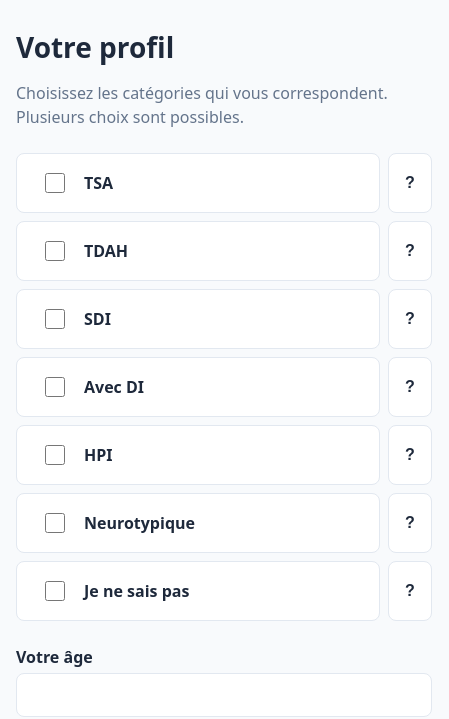
it: E02Profile › désactive Continuer tant qu'aucune catégorie ni âge valide n'est renseigné
Click the checkbox labelled "TSA" at (55, 183), box [45,173,65,193]
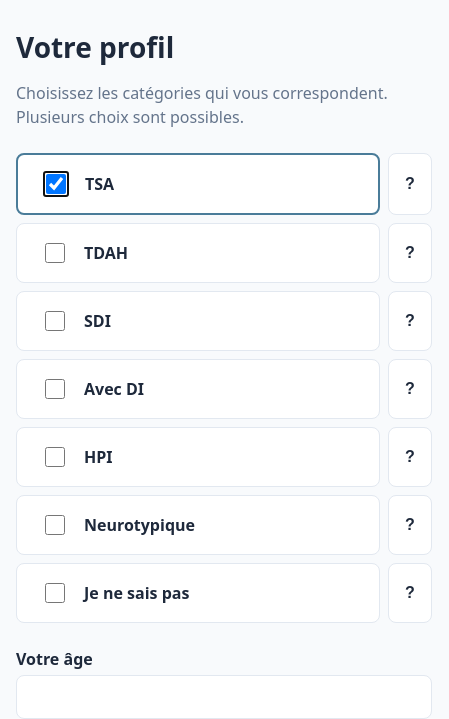
Type "0" into the field labelled "Votre âge" at (224, 697), box [16,675,432,718]
(page scrolled)
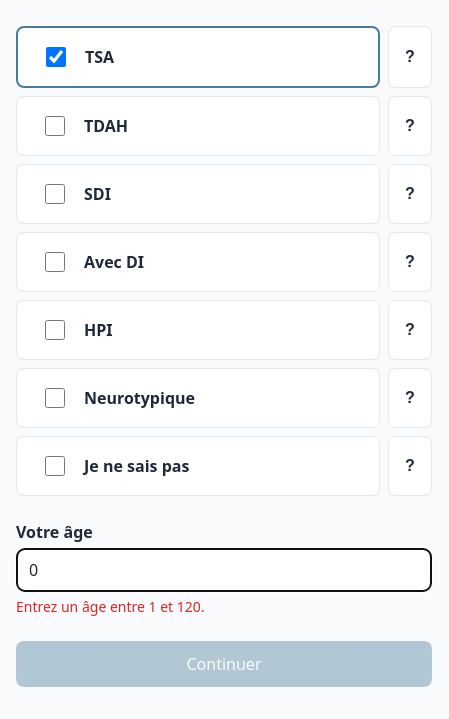
Expected: the button "Continuer" is disabled, [16,641,432,687]
Expected: the message reads "Entrez un âge entre 1 et 120.", [16,597,205,616]
